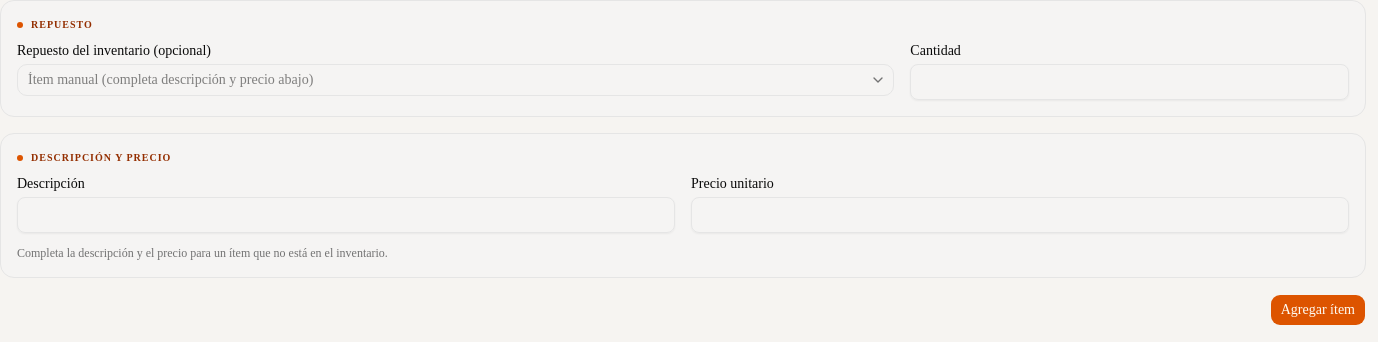
Test case: AgregarItemForm › does not show '+ Crear repuesto nuevo' option when puedeCrearRepuesto is false
The image size is (1378, 342).
Click the dropdown labelled "Repuesto del inventario (opcional)": (456, 80) x1=17 y1=64 x2=894 y2=96
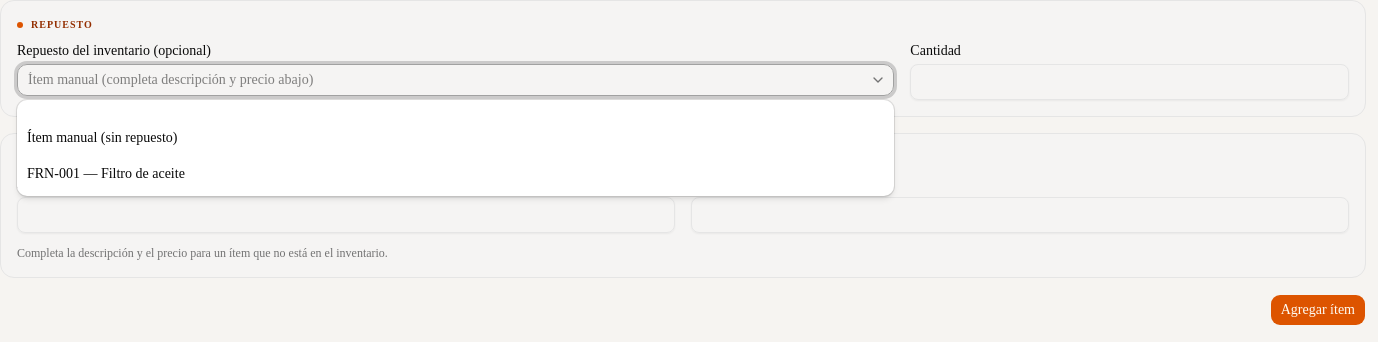
Result: the option "FRN-001 — Filtro de aceite" is shown at x1=27 y1=166 x2=185 y2=181
